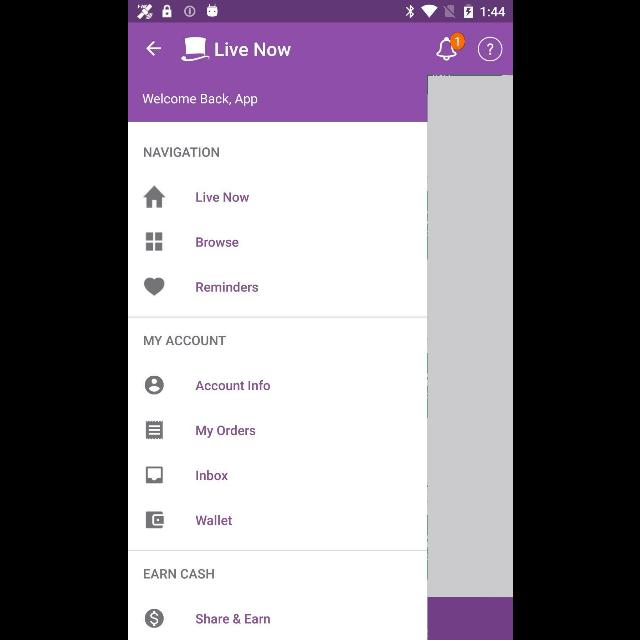icon: (435, 32, 465, 62), (476, 36, 502, 62), (142, 186, 166, 208), (144, 375, 164, 395), (144, 608, 162, 628), (144, 511, 164, 529), (145, 420, 163, 440), (144, 278, 164, 296), (144, 232, 162, 252), (145, 466, 163, 484), (145, 41, 161, 57)
image: (181, 36, 209, 62)
panel: (128, 76, 426, 640)
text: (140, 92, 258, 108), (214, 41, 292, 57), (143, 146, 220, 158), (142, 568, 214, 580), (195, 424, 255, 438), (142, 336, 225, 346), (194, 380, 270, 390), (194, 614, 270, 624), (196, 281, 258, 293), (195, 192, 249, 202), (195, 236, 239, 248), (194, 514, 232, 526), (195, 470, 228, 480)
toolbar: (128, 23, 512, 75)
uppertaskbar: (128, 1, 512, 23)
